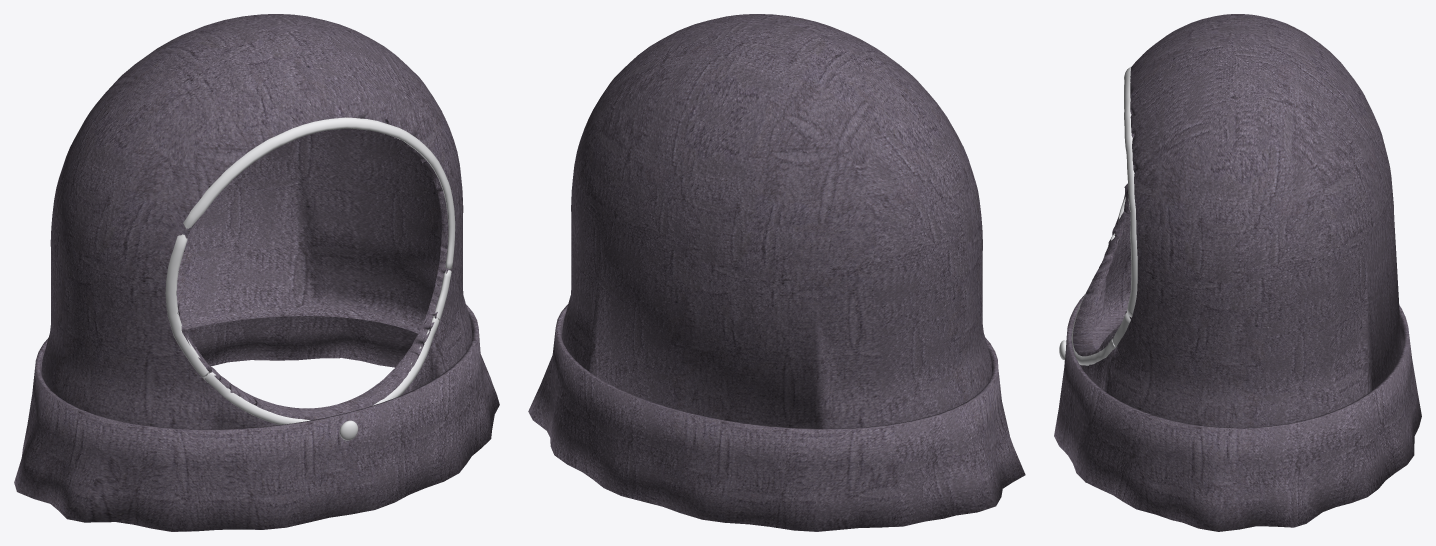
File: hijab3.fbx
3 views of the same model, side by side, from view 1: azimuth 30°, elevation 25°; view 2: azimuth 150°, elevation 25°; view 3: azimuth 270°, elevation 25° (orthographic). The views are drawn at different scales.
Parts seen in each view (by area): view 1: hijab3; view 2: hijab3; view 3: hijab3.
Part boxes in pixels (x1,y1,x2,y2): hijab3: (14, 14, 499, 531); hijab3: (528, 14, 1025, 531); hijab3: (1054, 14, 1421, 531).
Size of the model in its own units: 1 by 0.8699 by 0.734.
2 materials, 1 textured.
